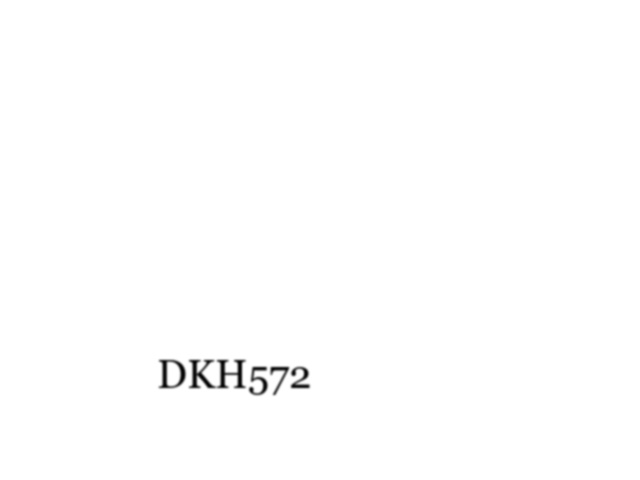OCR_AREA: (153, 356, 315, 399)
